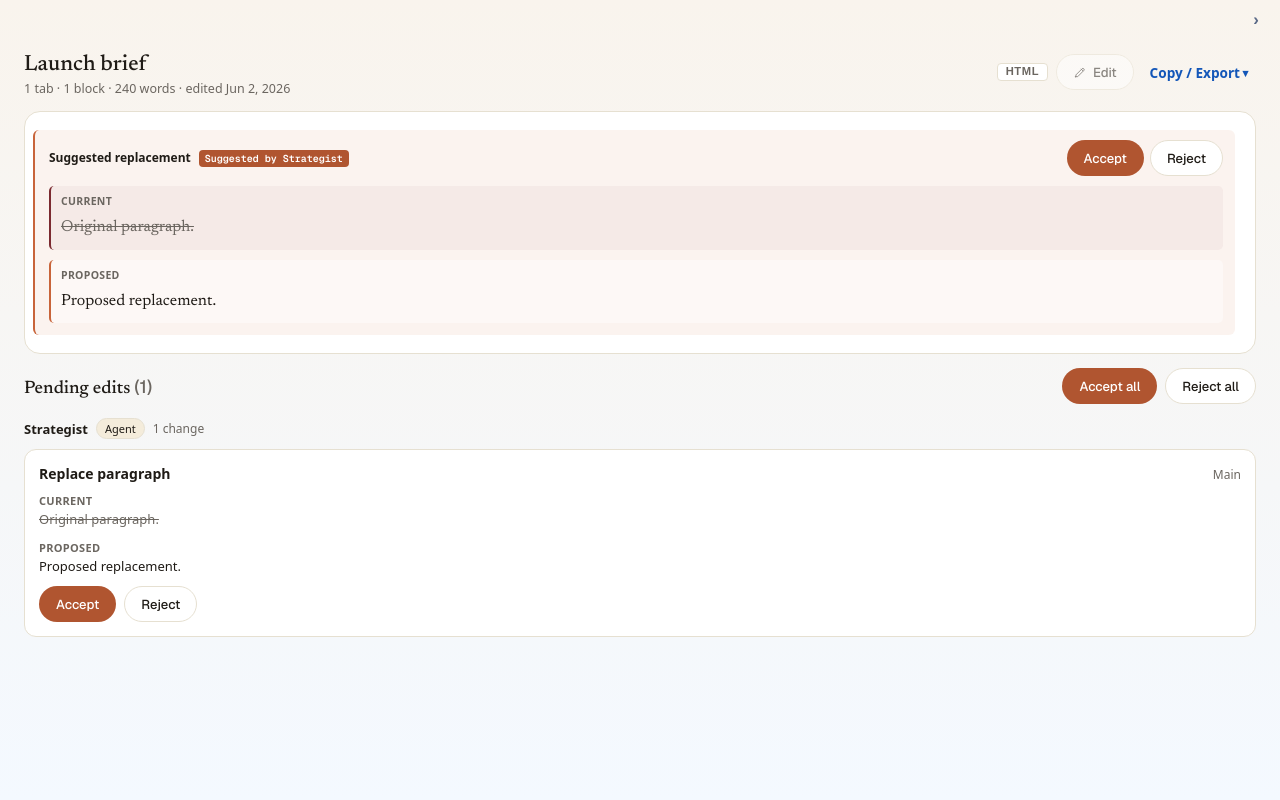
Test: TalkDocPane › shows the pending-edit review console and accepts an edit
This screenshot has width=1280, height=800.
Check: the heading "Pending edits (1)" is shown, box top-left (24, 374), bottom-right (152, 398)
What coordinates should you click on to do the following:
click the button with aria-label "Accept inline suggested replacement"
I would click on:
 (1105, 158)
Its box is top-left (1067, 140), bottom-right (1144, 176).
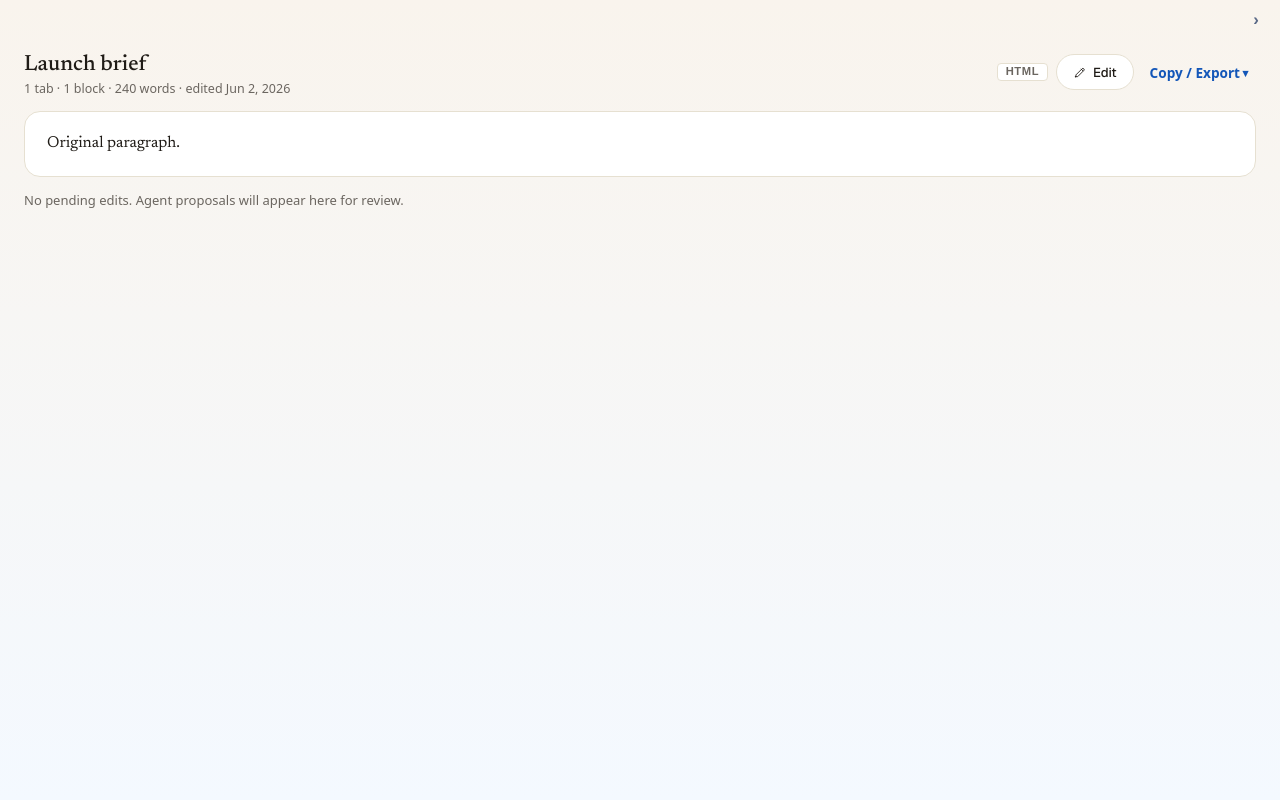
Check: the text "No pending edits" is shown, box top-left (24, 190), bottom-right (404, 208)
